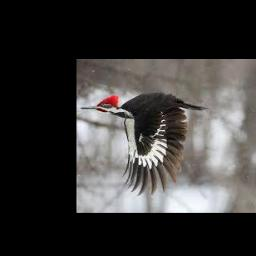Woodpecker: (80, 93, 207, 194)
